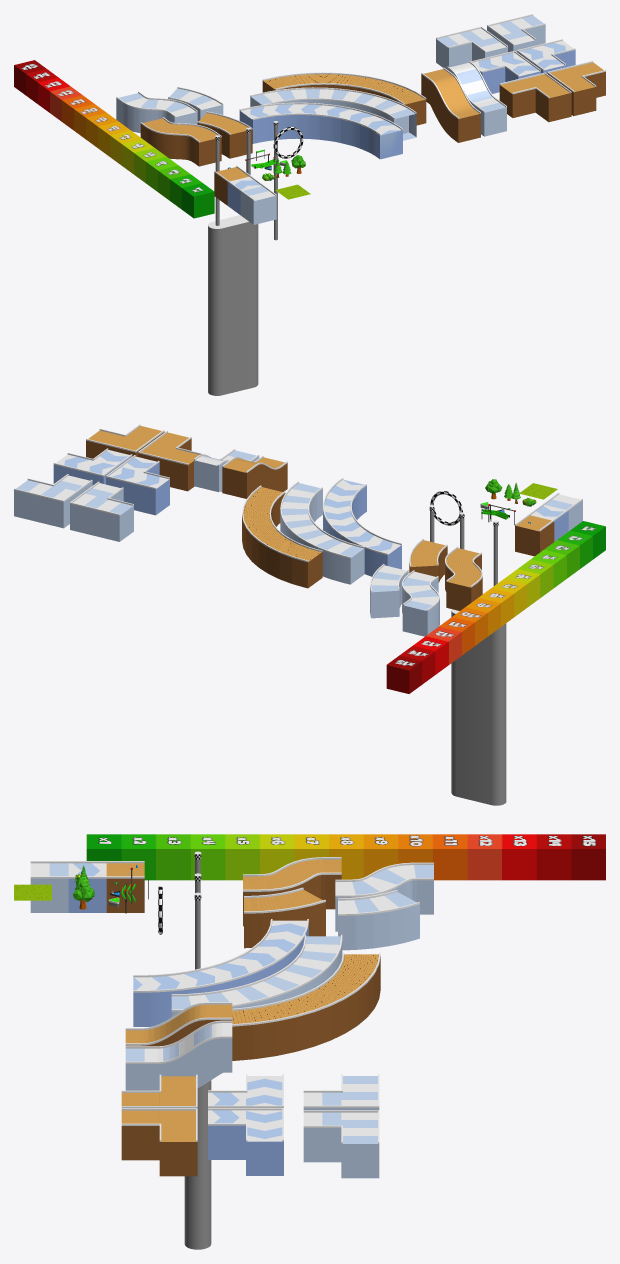
The model's file is Bowling.fbx.
The picture shows the model from 3 angles, top to bottom: view 1: azimuth 30°, elevation 25°; view 2: azimuth 150°, elevation 25°; view 3: azimuth 270°, elevation 25°; orthographic projection. The views are drawn at different scales.
Visible parts, largest first — view 1: FlagPole, Bar, Platform.Curve, Platform2.Curve, Bowling Platform.Curve, Bowling Platform.Lift, Bowling Platform.L, Bowling Platform.ZZ, Platform2.ZZ, Platform2.l, Platform2.Lift, Bowling Platform.R (+8 smaller); view 2: Bar, FlagPole, Bowling Platform.Curve, Platform2.Curve, Platform.Curve, Platform2.l, Platform2.r, Platform.L, Platform2.ZZ, Bowling Platform.Lift, Bowling Platform.L, Bowling Platform.ZZ (+8 smaller); view 3: Bar, Bowling Platform.Curve, Platform.Curve, Platform2.Lift, Platform2.Curve, Bowling Platform.R, Platform2.r, Platform.R, Platform2.Bend, FlagPole, Bowling Platform.Bend, Bowling Platform.ZZ (+9 smaller).
Part boxes in pixels (<box>): FlagPole: <box>208,127,258,395</box>; Bar: <box>14,60,214,218</box>; Platform.Curve: <box>239,102,402,159</box>; Platform2.Curve: <box>250,87,416,140</box>; Bowling Platform.Curve: <box>262,72,426,125</box>; Bowling Platform.Lift: <box>421,67,480,142</box>; Bowling Platform.L: <box>499,72,571,122</box>; Bowling Platform.ZZ: <box>140,117,221,166</box>; Platform2.ZZ: <box>116,91,197,132</box>; Platform2.l: <box>436,26,507,69</box>; Platform2.Lift: <box>447,61,506,136</box>; Bowling Platform.R: <box>547,61,605,116</box>; Bar: <box>386,521,605,693</box>; FlagPole: <box>451,512,506,805</box>; Bowling Platform.Curve: <box>242,485,322,588</box>; Platform2.Curve: <box>280,481,364,584</box>; Platform.Curve: <box>323,478,401,576</box>; Platform2.l: <box>70,481,133,541</box>; Platform2.r: <box>14,474,92,528</box>; Platform.L: <box>106,455,169,515</box>; Platform2.ZZ: <box>402,570,439,636</box>; Bowling Platform.Lift: <box>222,455,287,498</box>; Bowling Platform.L: <box>138,431,201,491</box>; Bowling Platform.ZZ: <box>445,546,482,610</box>; Bar: <box>86,834,605,880</box>; Bowling Platform.Curve: <box>232,952,380,1060</box>; Platform.Curve: <box>133,919,308,1026</box>; Platform2.Lift: <box>125,1020,232,1090</box>; Platform2.Curve: <box>171,934,342,1016</box>; Bowling Platform.R: <box>121,1108,197,1176</box>; Platform2.r: <box>303,1110,379,1178</box>; Platform.R: <box>208,1108,283,1175</box>; Platform2.Bend: <box>338,890,419,950</box>; FlagPole: <box>184,851,211,1249</box>; Bowling Platform.Bend: <box>244,887,325,948</box>; Bowling Platform.ZZ: <box>243,857,341,926</box>.
Size of the model in its own units: 3862 by 2179 by 3120.
